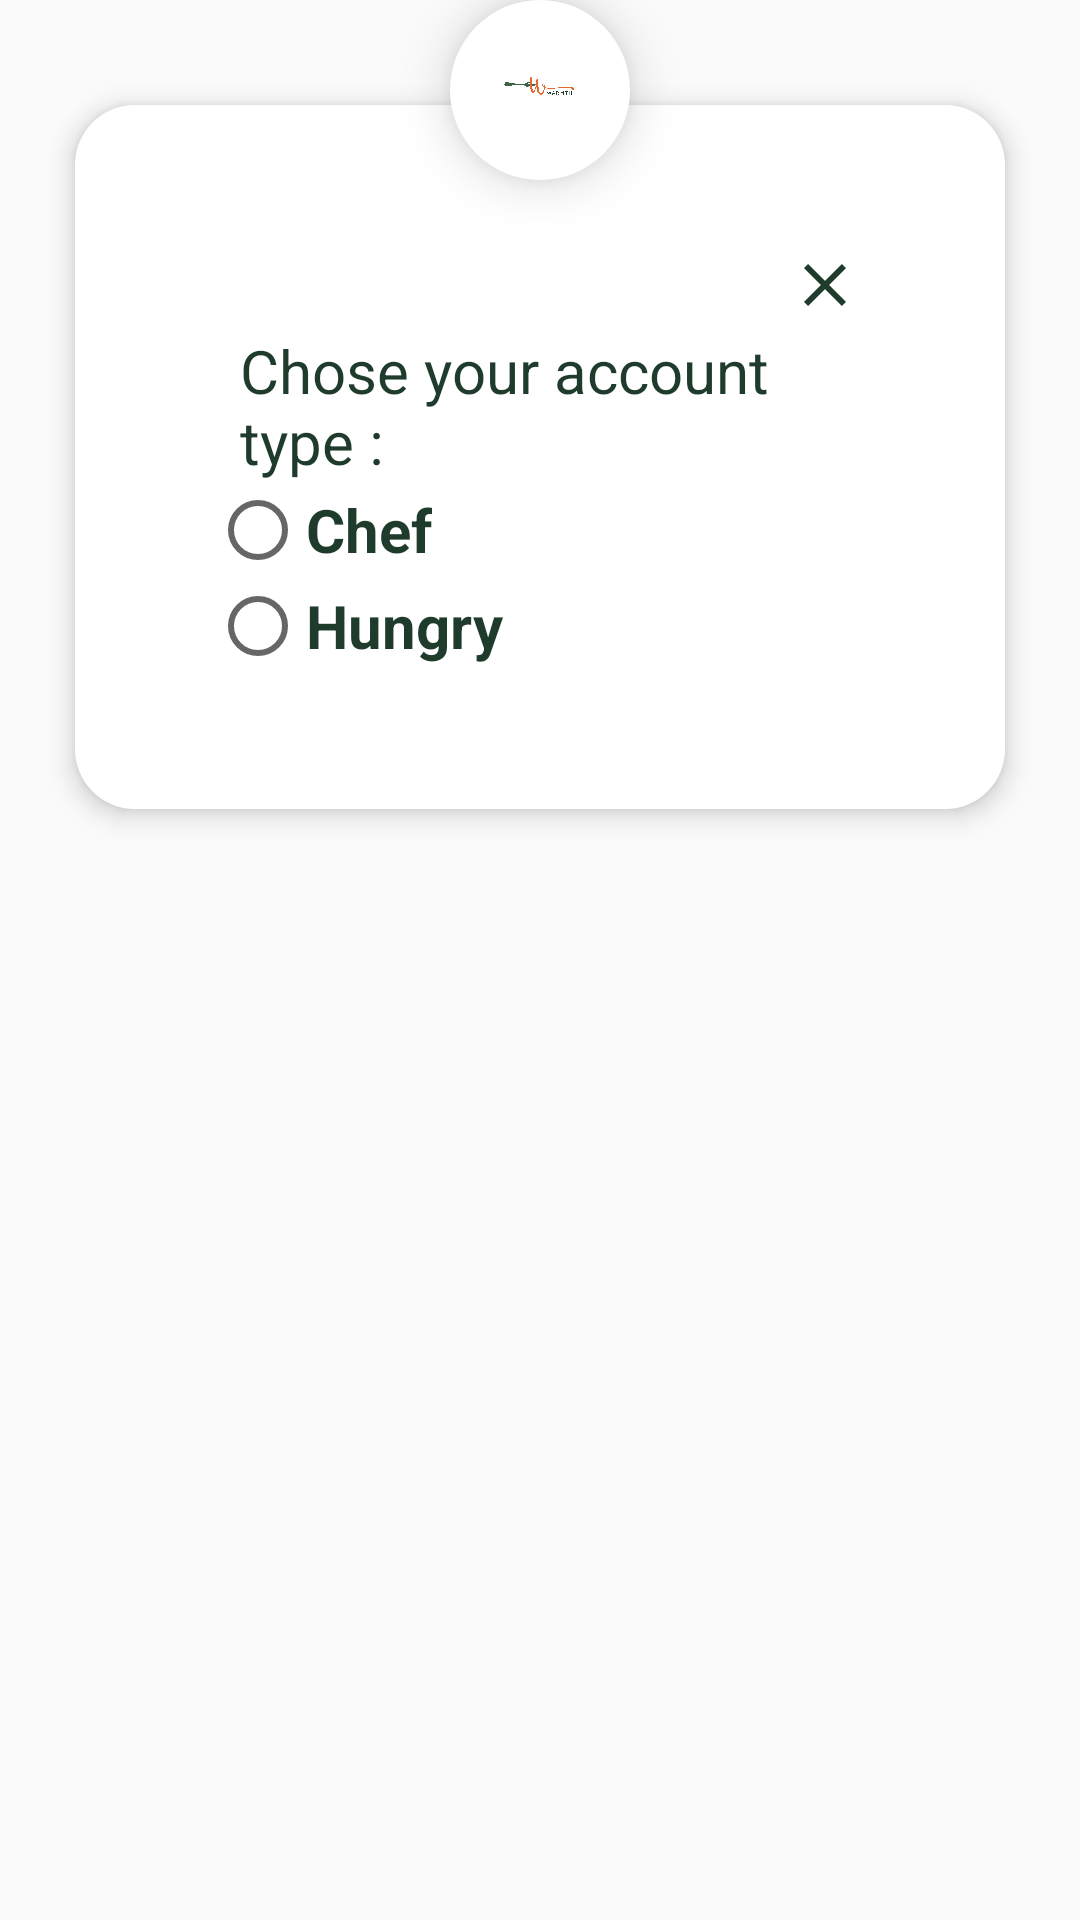

Named icons in this screenshot (1080*1920) and their bounding boxes, (x1, y1, x2, y2):
clear: (804, 264, 846, 306)
